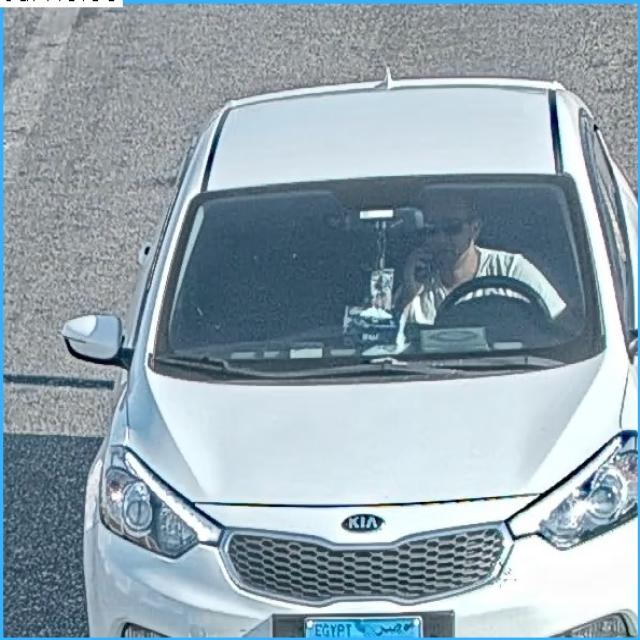windshield: (153, 183, 596, 379)
